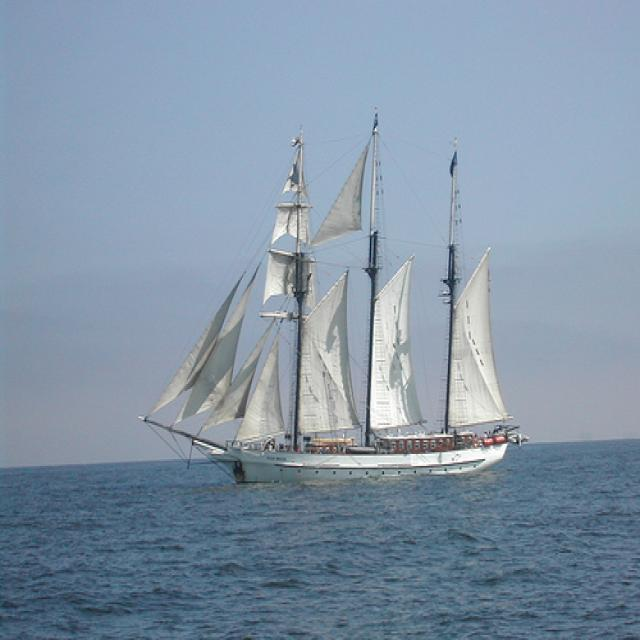Ship: (157, 114, 516, 486)
